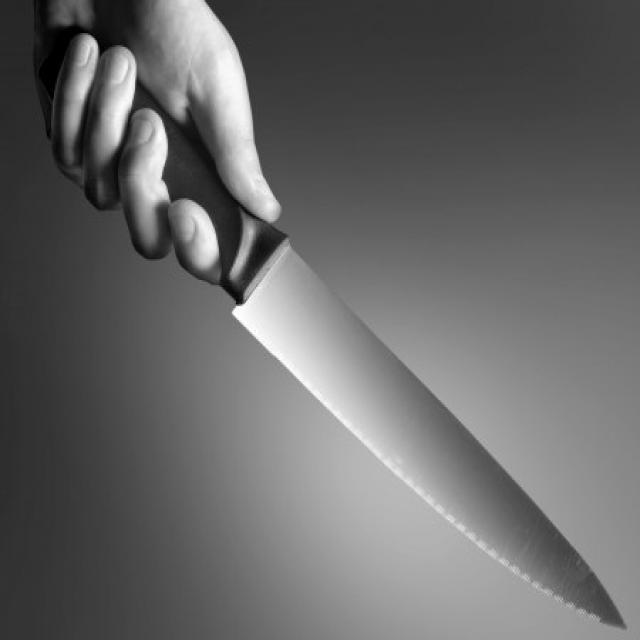Knife: (119, 105, 633, 632)
